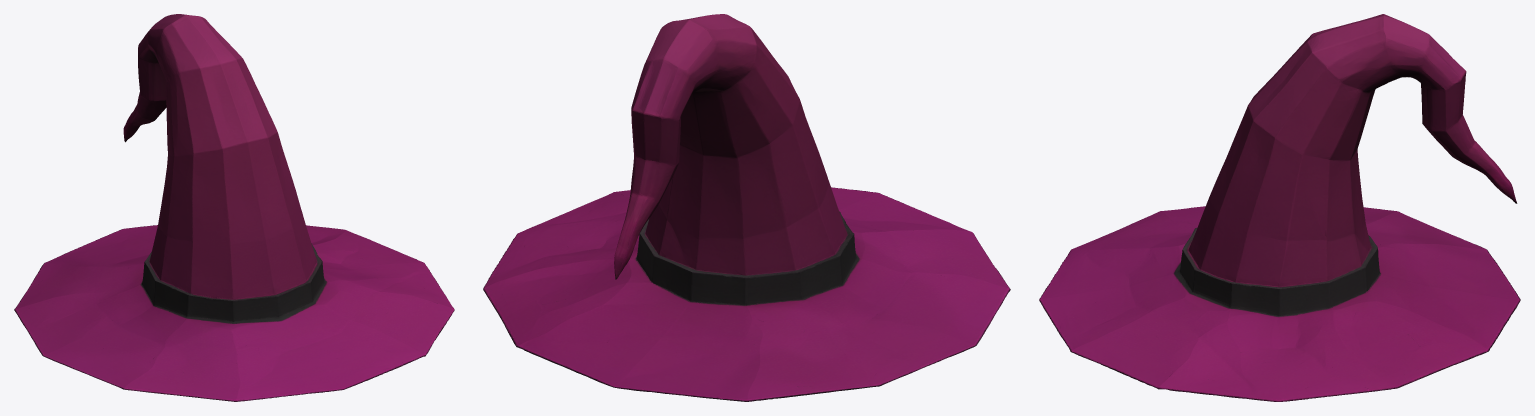
3 renders of one model, left to right at view 1: azimuth 30°, elevation 25°; view 2: azimuth 150°, elevation 25°; view 3: azimuth 270°, elevation 25°, orthographic. The views are drawn at different scales.
Parts seen in each view (by area): view 1: world; view 2: world; view 3: world.
Boxes of the visible parts, box(x1,y1,x2,y2) form: world: box(14, 14, 454, 401); world: box(483, 14, 1010, 401); world: box(1039, 14, 1520, 401).
Bounding box in the file's own units: 0.9998 × 0.6532 × 0.9999.
Materials: 1 (1 with a texture image).
